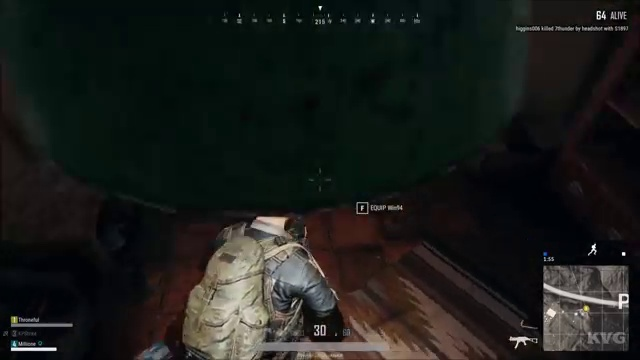Player: (194, 162, 348, 316)
